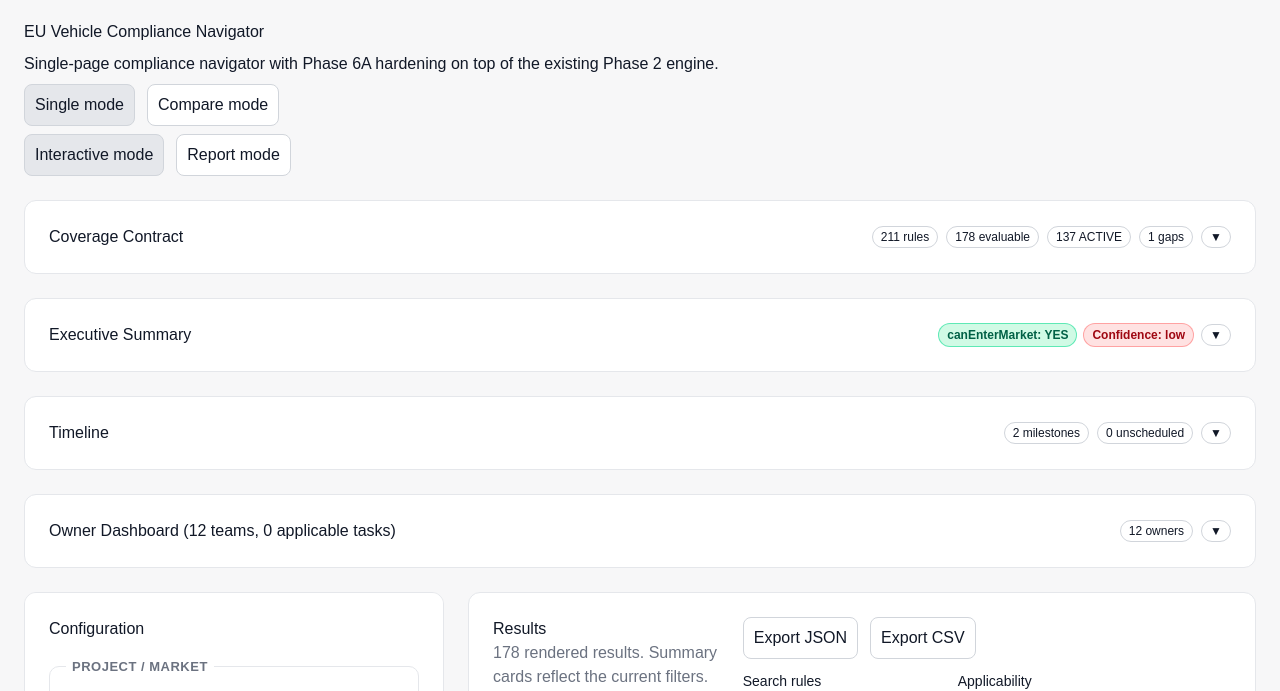
Test: Phase 10A.2 verification workflow › renders the priority source verification queue with status buckets
Click the button "Coverage Contract" at x=116, y=236, box [49, 225, 1231, 249]
(page scrolled)
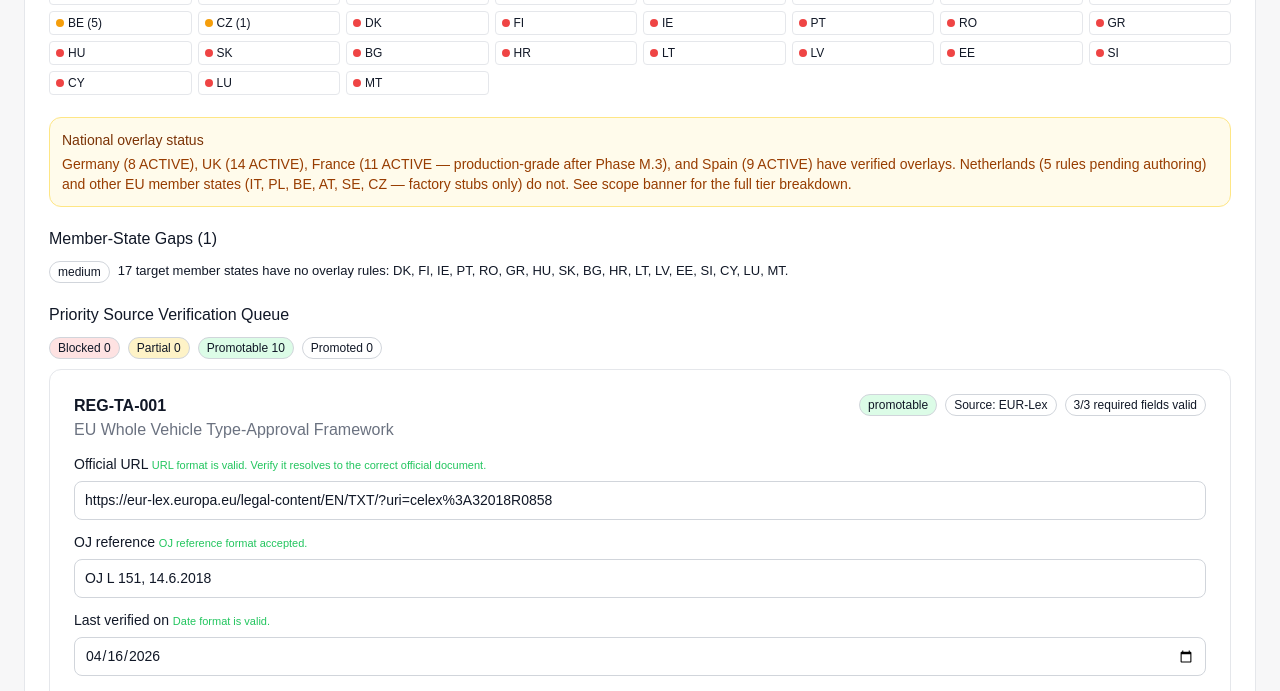
Check: the heading "Priority Source Verification Queue" is shown, box [49, 306, 289, 324]
Check: the text "Blocked 0" is shown, box [49, 338, 120, 360]
Check: the text "Partial 0" is shown, box [128, 338, 190, 360]
